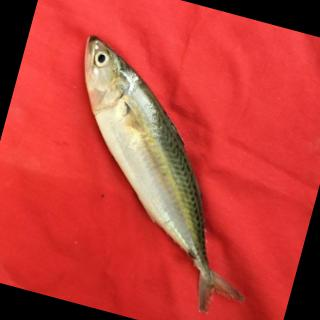Ikan: (12, 11, 312, 320)
